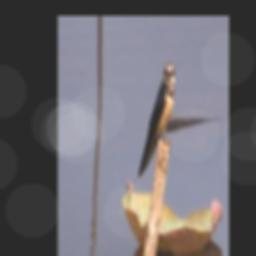Swallow: (137, 60, 176, 182)
